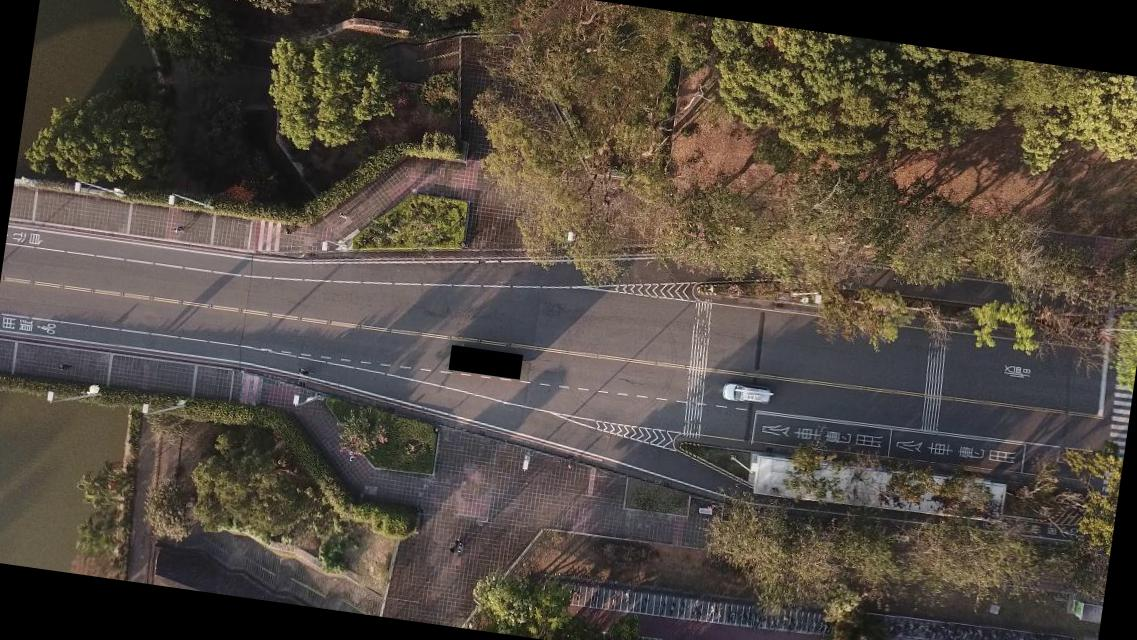vehicle: (720, 381, 774, 407)
